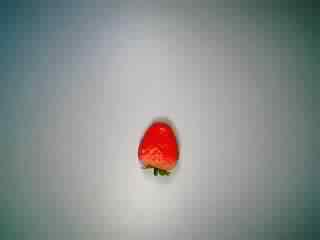strawberry: (125, 115, 186, 184)
